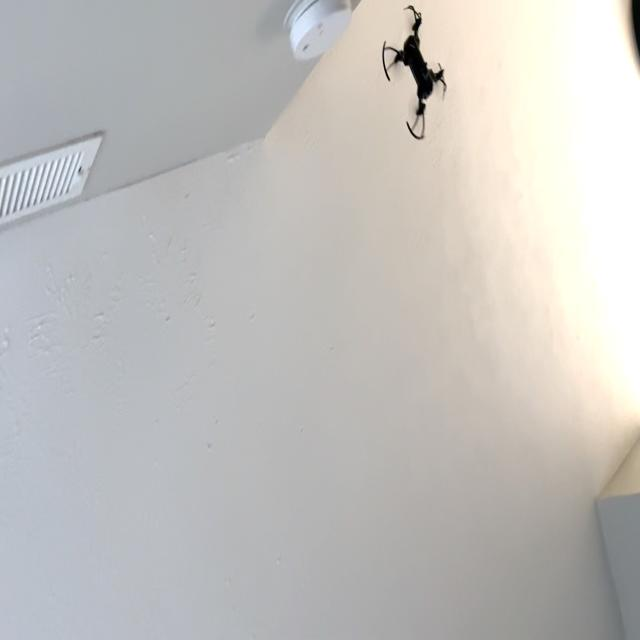drone: (373, 0, 452, 146)
